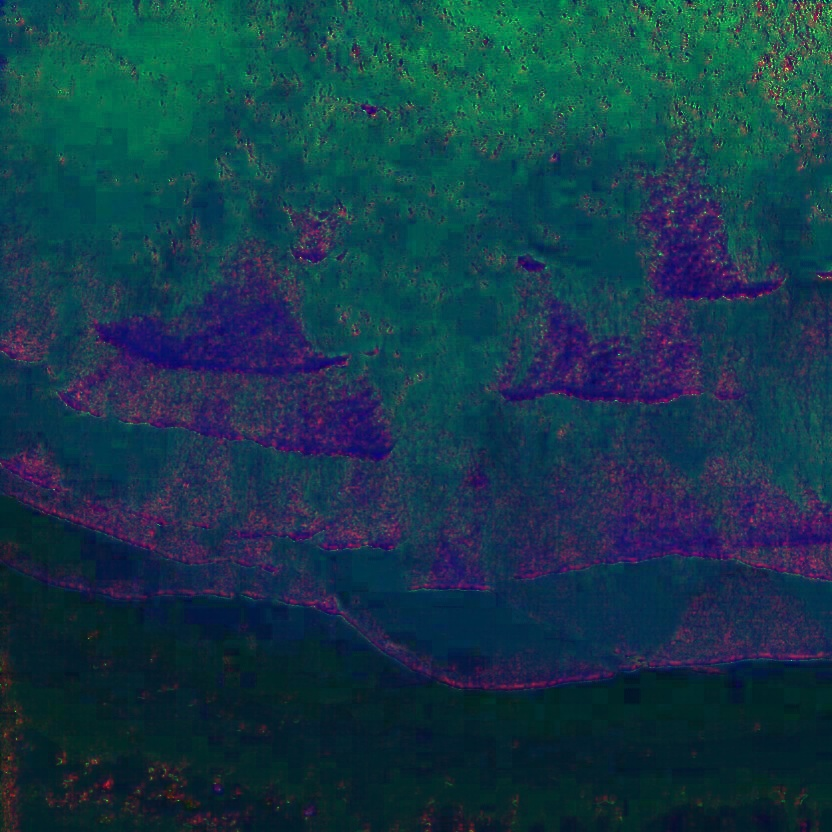rip_current: (298, 235, 521, 519)
